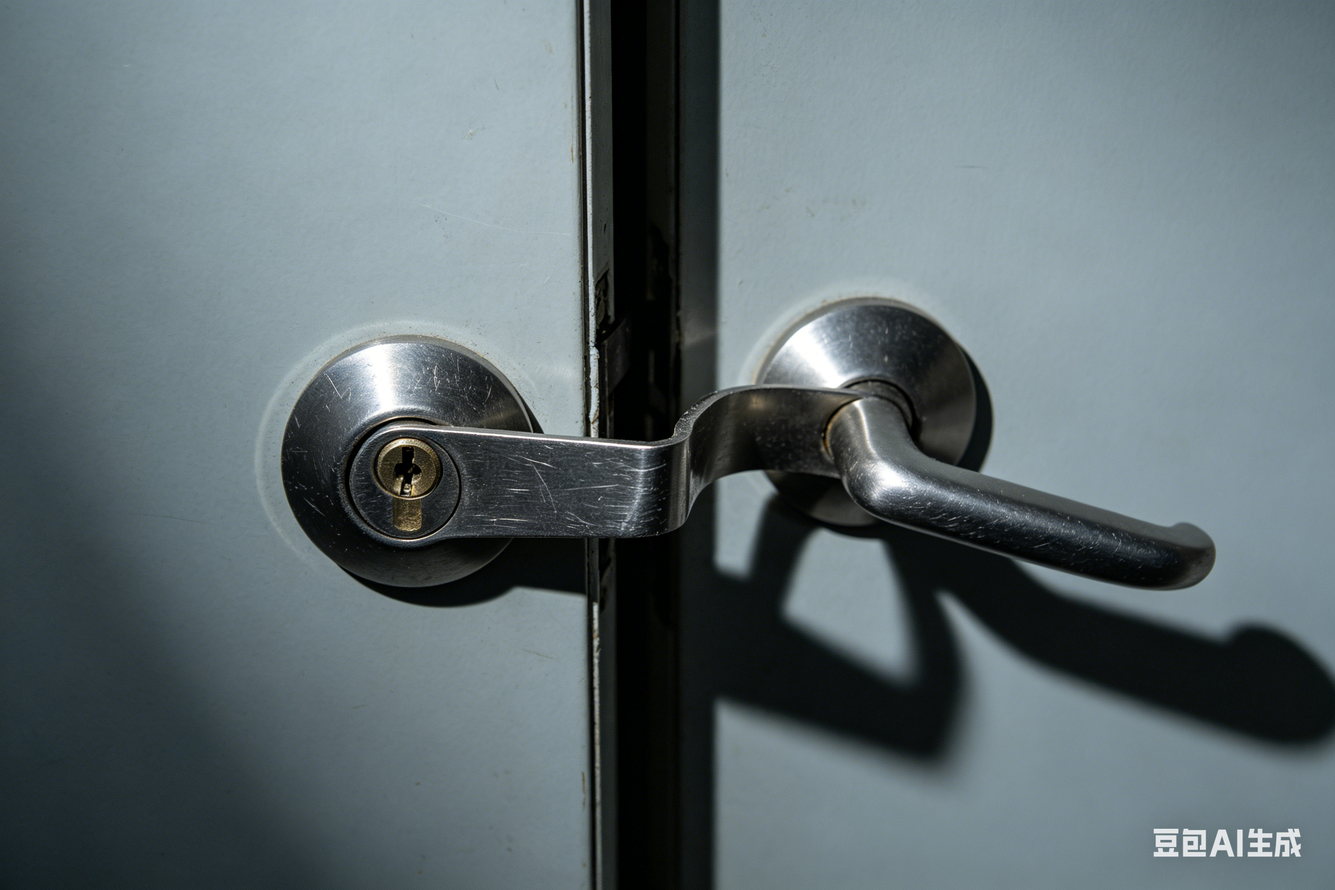BadLock: (382, 361, 861, 529)
